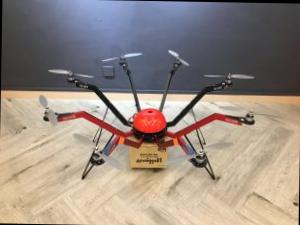drone: (31, 44, 273, 168)
